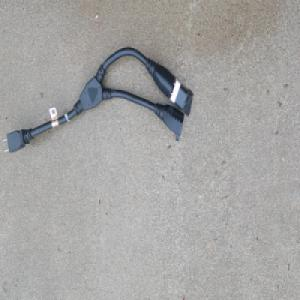Wire: (2, 45, 193, 156)
